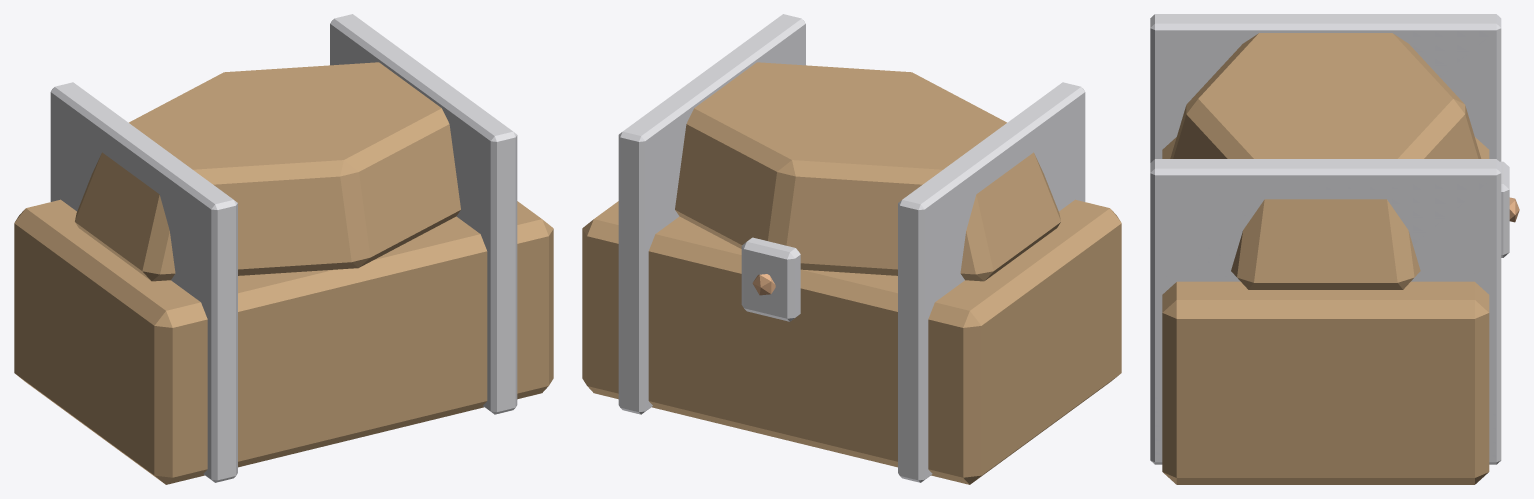
File: bau.fbx
The picture shows the model from 3 angles, left to right: view 1: azimuth 30°, elevation 25°; view 2: azimuth 150°, elevation 25°; view 3: azimuth 270°, elevation 25°; orthographic projection. The views are drawn at different scales.
Parts seen in each view (by area): view 1: Baú~Caixa@wood, Baú~Tampa@wood, Baú~Faixa -0.42@metal, Baú~Faixa 0.42@metal; view 2: Baú~Caixa@wood, Baú~Tampa@wood, Baú~Faixa -0.42@metal, Baú~Faixa 0.42@metal, Baú~Fechadura@metal; view 3: Baú~Caixa@wood, Baú~Tampa@wood, Baú~Faixa 0.42@metal, Baú~Faixa -0.42@metal, Baú~Fechadura@metal.
Part boxes in pixels (x1,y1,x2,y2): Baú~Caixa@wood: (14,199,553,484); Baú~Tampa@wood: (75,62,460,281); Baú~Faixa -0.42@metal: (50,82,237,482); Baú~Faixa 0.42@metal: (330,14,517,414); Baú~Caixa@wood: (582,199,1121,484); Baú~Tampa@wood: (675,62,1060,281); Baú~Faixa -0.42@metal: (898,82,1085,482); Baú~Faixa 0.42@metal: (618,14,805,414); Baú~Fechadura@metal: (741,237,800,321); Baú~Caixa@wood: (1162,137,1489,484); Baú~Tampa@wood: (1170,33,1481,289); Baú~Faixa 0.42@metal: (1150,159,1501,464); Baú~Faixa -0.42@metal: (1150,14,1501,162); Baú~Fechadura@metal: (1500,161,1509,257).
Bounding box in the file's own units: 1.2 × 0.8 × 0.905.
